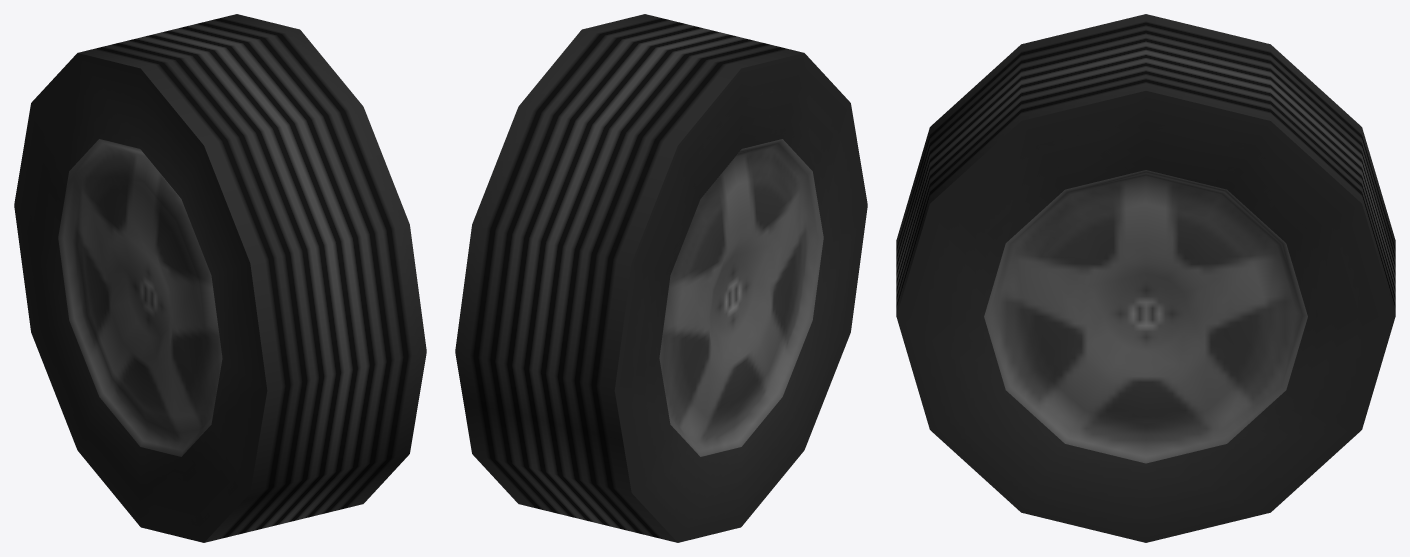
The model's file is GTzWheel.fbx.
3 renders of one model, left to right at view 1: azimuth 30°, elevation 25°; view 2: azimuth 150°, elevation 25°; view 3: azimuth 270°, elevation 25°, orthographic.
Visible parts, largest first — view 1: WheelBXC; view 2: WheelBXC; view 3: WheelBXC.
Part boxes in pixels (x1,y1,x2,y2): WheelBXC: [14, 14, 426, 542]; WheelBXC: [455, 14, 867, 542]; WheelBXC: [896, 14, 1395, 542].
Size of the model in its own units: 0.2346 by 0.6434 by 0.6434.
